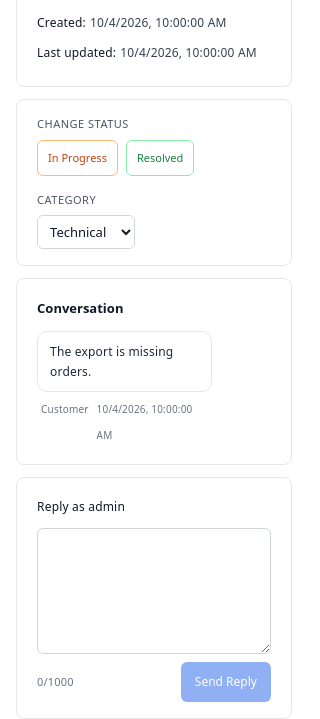
it: TicketDetailPage › counts reply characters against the 1000 limit
(page scrolled)
Expected: the text "0/1000" is shown, [37,674,74,689]
Type "Hello" into the text box labelled "Reply as admin".
click(154, 591); type("Hello")  # box [37,528,271,654]
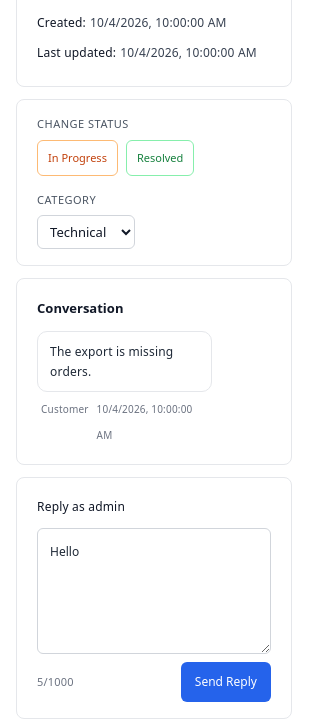
Expected: the text "5/1000" is shown, [37,674,74,689]
